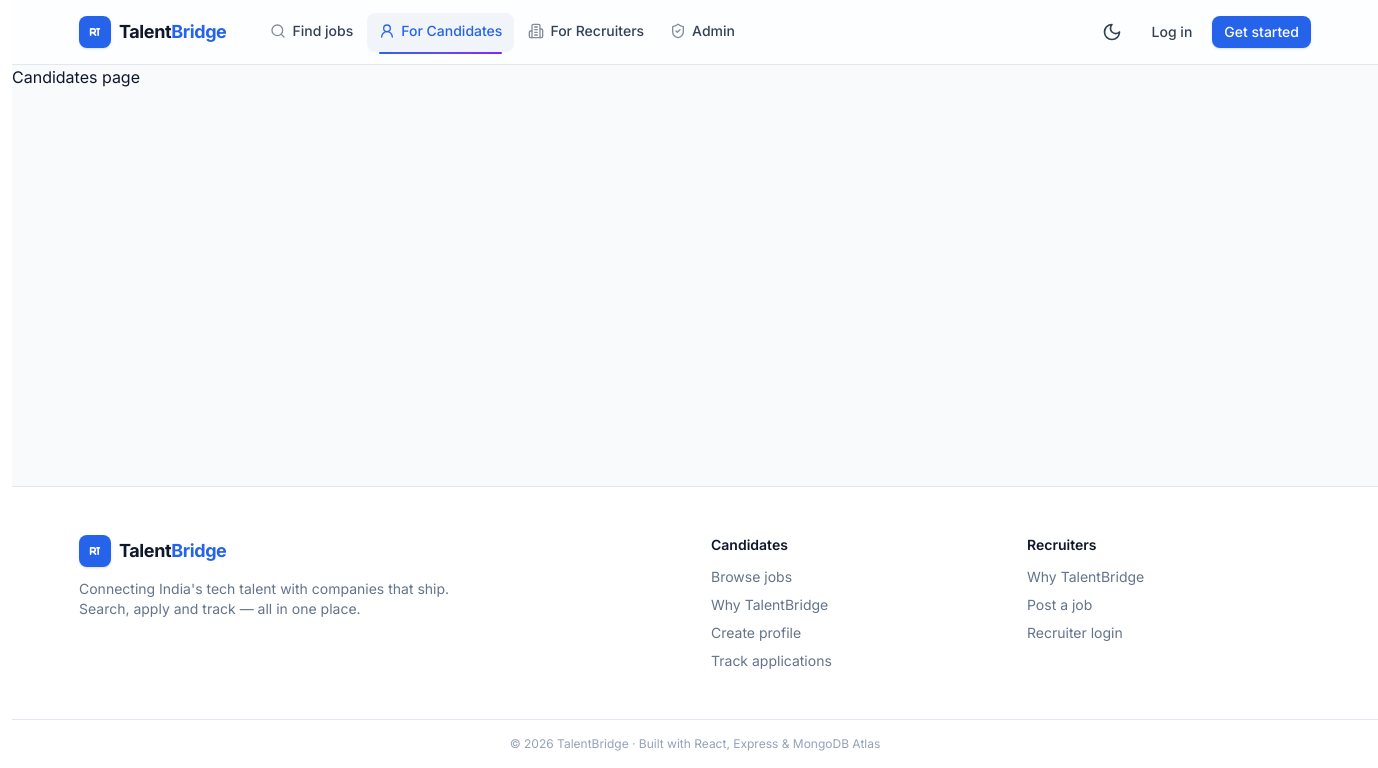
homepage navigation › shows Find jobs, For Candidates, For Recruiters and Admin, and marks the active one
Click the link "Find jobs" at (312, 30), box x1=270 y1=22 x2=353 y2=38
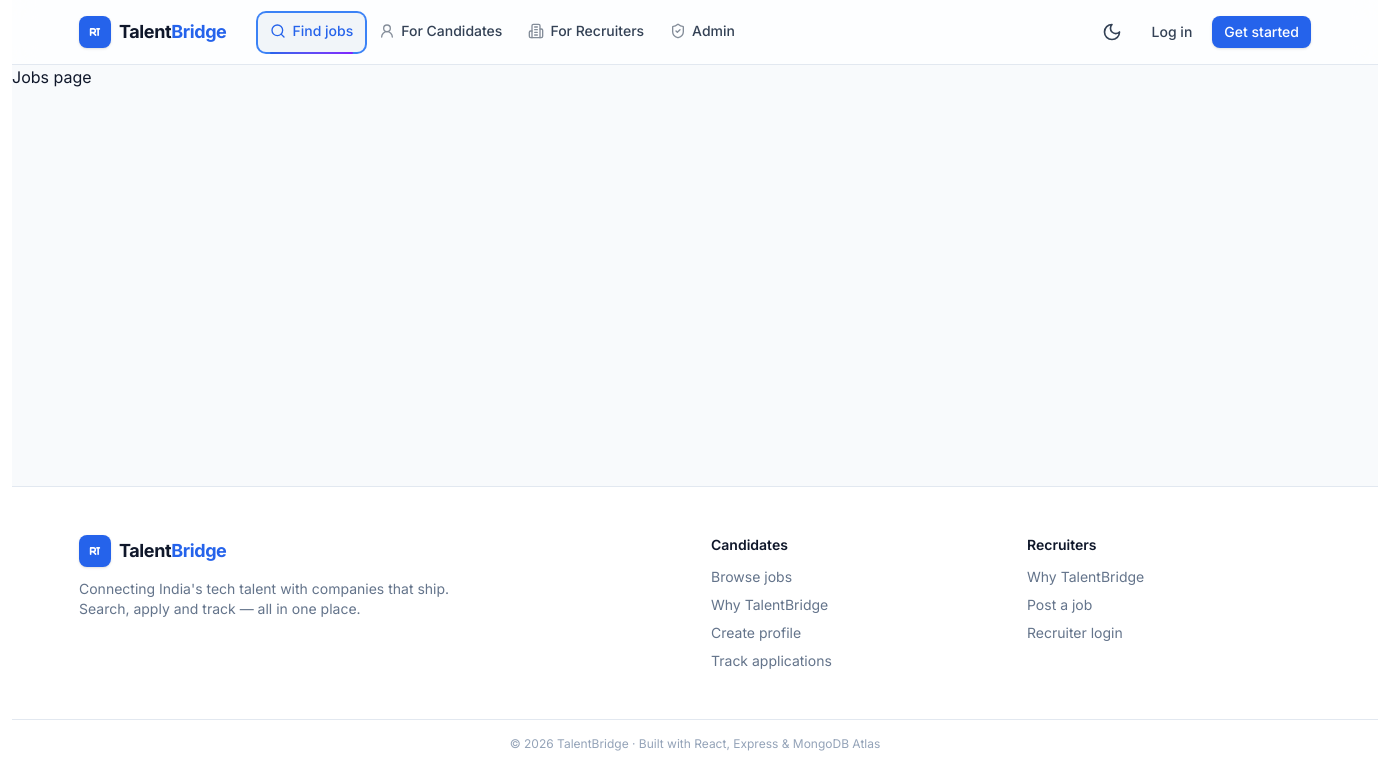
Check: the text "Jobs page" is shown, box x1=12 y1=67 x2=92 y2=87
